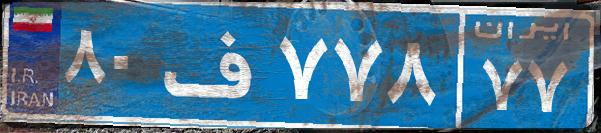0: (110, 28, 158, 105)
7: (273, 28, 330, 110), (330, 28, 385, 110), (475, 38, 525, 113), (525, 38, 570, 115)
8: (385, 28, 445, 110), (57, 26, 110, 107)
ف: (158, 15, 273, 115)
